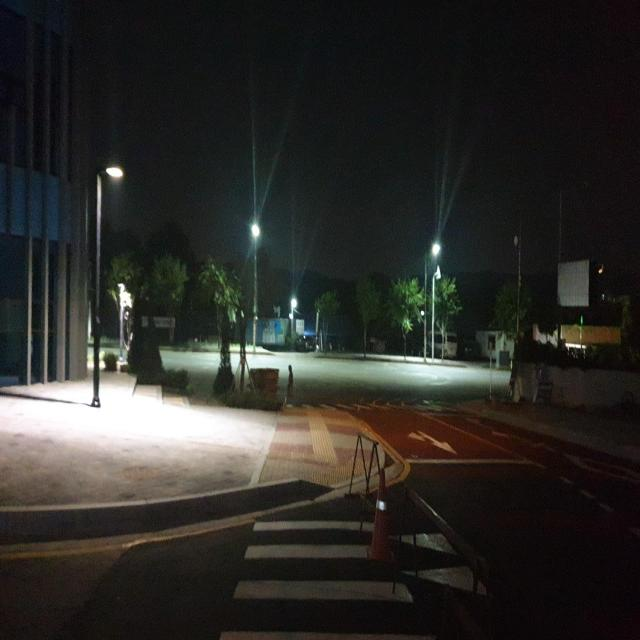횡단보도: (218, 518, 438, 640)
